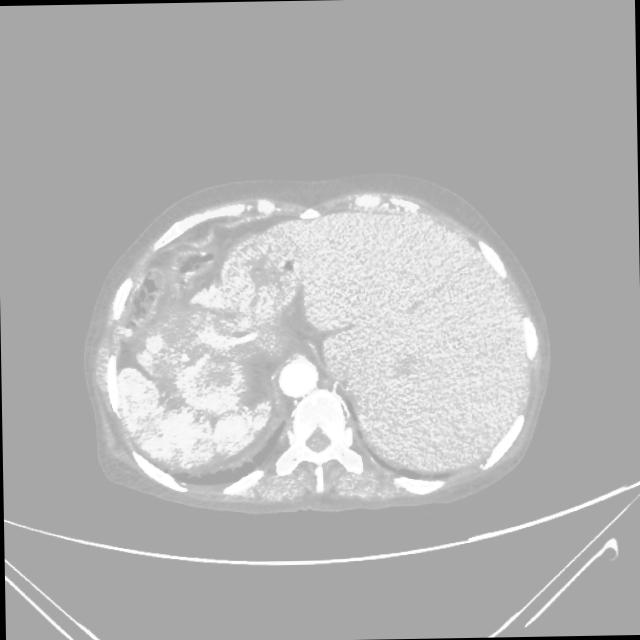TUMOR: (57, 236, 298, 443)
